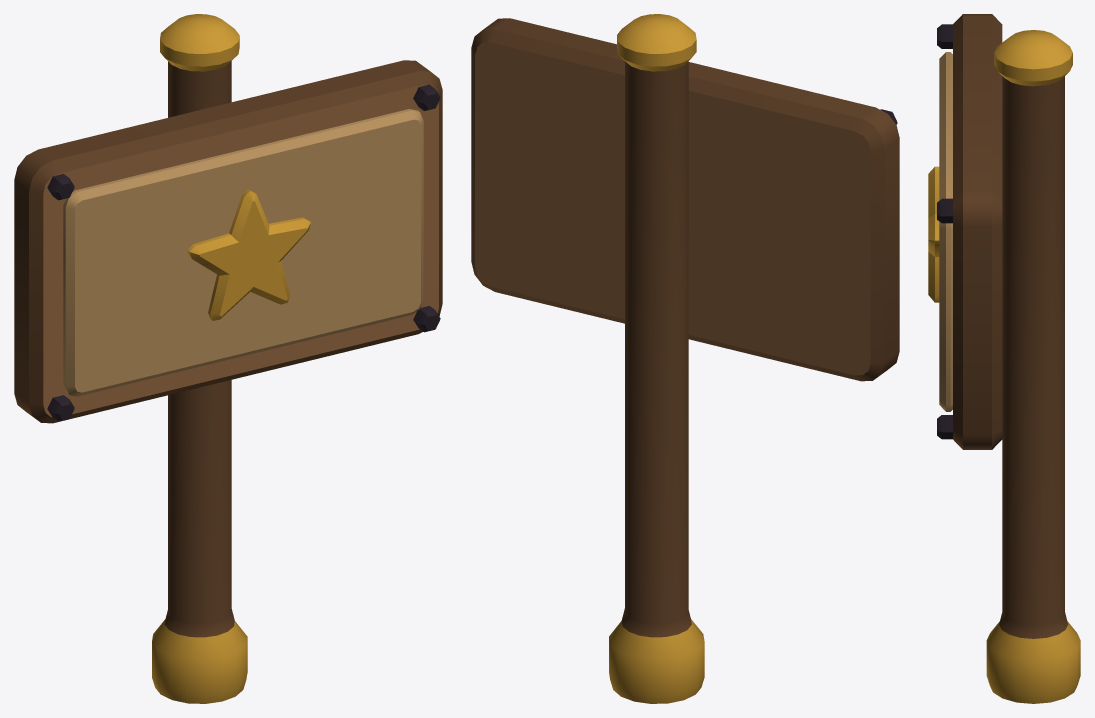
Rendered from Sign_27.glb.
The picture shows the model from 3 angles, left to right: view 1: azimuth 30°, elevation 25°; view 2: azimuth 150°, elevation 25°; view 3: azimuth 270°, elevation 25°; orthographic projection. The views are drawn at different scales.
Visible parts, largest first — view 1: Sign_27; view 2: Sign_27; view 3: Sign_27.
Boxes of the visible parts, x1,y1,x2,y2 form: Sign_27: (14, 14, 442, 703); Sign_27: (471, 14, 899, 703); Sign_27: (928, 14, 1080, 703).
Size of the model in its own units: 2.08 by 3.19 by 0.68.
